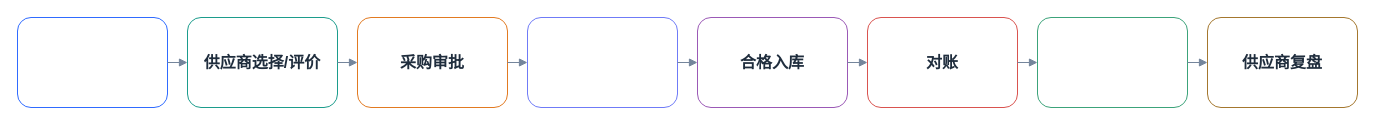
Some shapes in this 1375 by 125 pixel diagram are drawn without their labels. The shapes that lost their labels are listed below. From the top down, each one's centre as x and y in pixels, then its label:
At pixel 92 62: "需求提出".
At pixel 602 62: "到货验收".
At pixel 1112 62: "付款审批".
